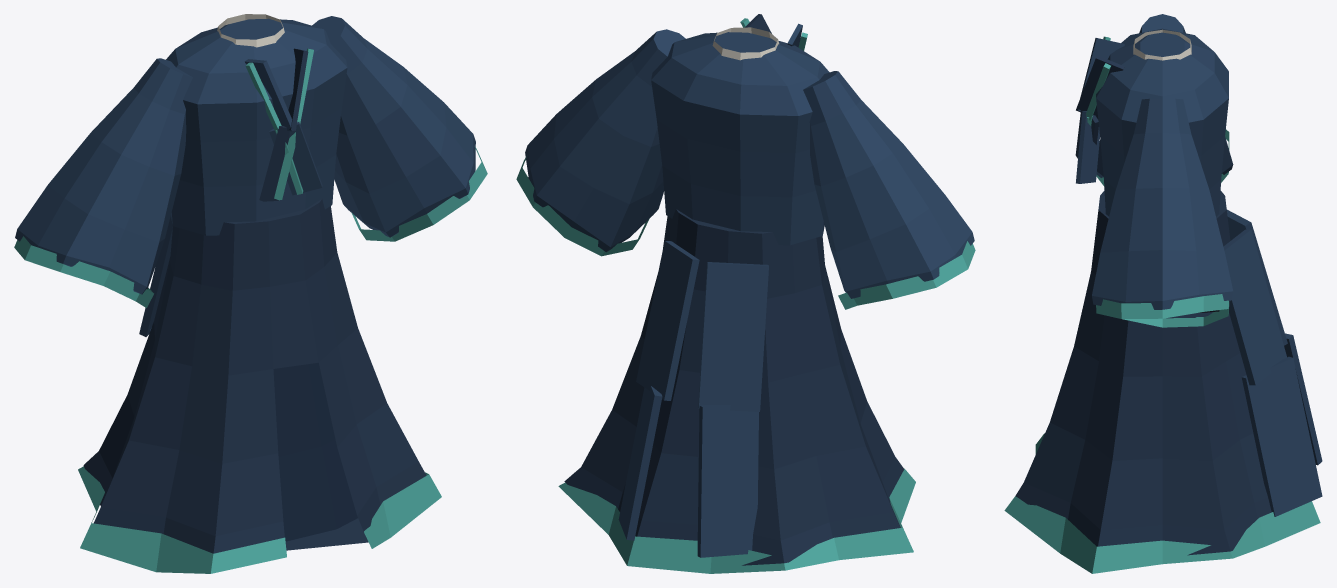
File: gear_dopo_t2.glb
3 renders of one model, left to right at view 1: azimuth 30°, elevation 25°; view 2: azimuth 150°, elevation 25°; view 3: azimuth 270°, elevation 25°, orthographic. The views are drawn at different scales.
Visible parts, largest first — view 1: gear_dopo_t2; view 2: gear_dopo_t2; view 3: gear_dopo_t2.
Part boxes in pixels (x1=…): gear_dopo_t2: x1=14, y1=14, x2=487, y2=573; gear_dopo_t2: x1=516, y1=14, x2=975, y2=573; gear_dopo_t2: x1=1004, y1=14, x2=1322, y2=573.
Size of the model in its own units: 1.42 by 1.48 by 0.9051.
